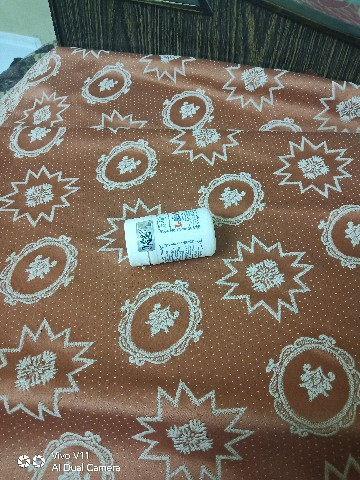lgasafoetidapowder small: (112, 200, 222, 277)
